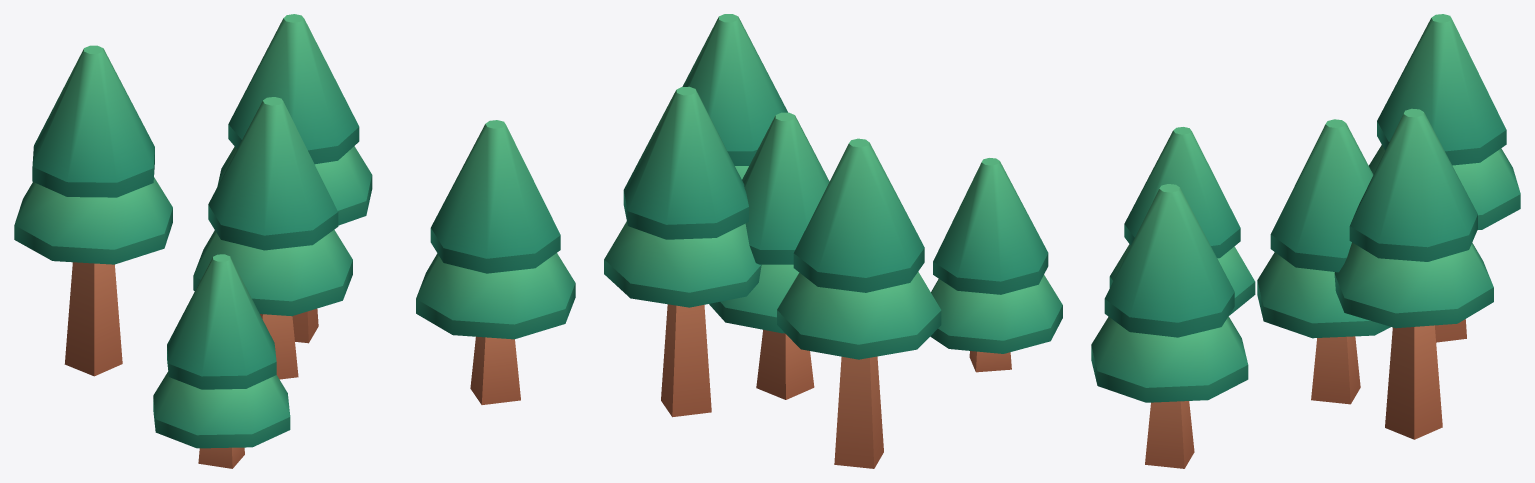
Rendered from grass-trees-tall.glb.
The picture shows the model from 3 angles, left to right: view 1: azimuth 30°, elevation 25°; view 2: azimuth 150°, elevation 25°; view 3: azimuth 270°, elevation 25°; orthographic projection.
Parts seen in each view (by area): view 1: grass-trees-tall; view 2: grass-trees-tall; view 3: grass-trees-tall.
Part boxes in pixels (x1,y1,x2,y2): grass-trees-tall: [14, 14, 575, 468]; grass-trees-tall: [604, 14, 1062, 468]; grass-trees-tall: [1091, 14, 1520, 468].
Bounding box in the file's own units: 0.9519 × 0.7189 × 0.8794.
Materials: 1 (1 with a texture image).
